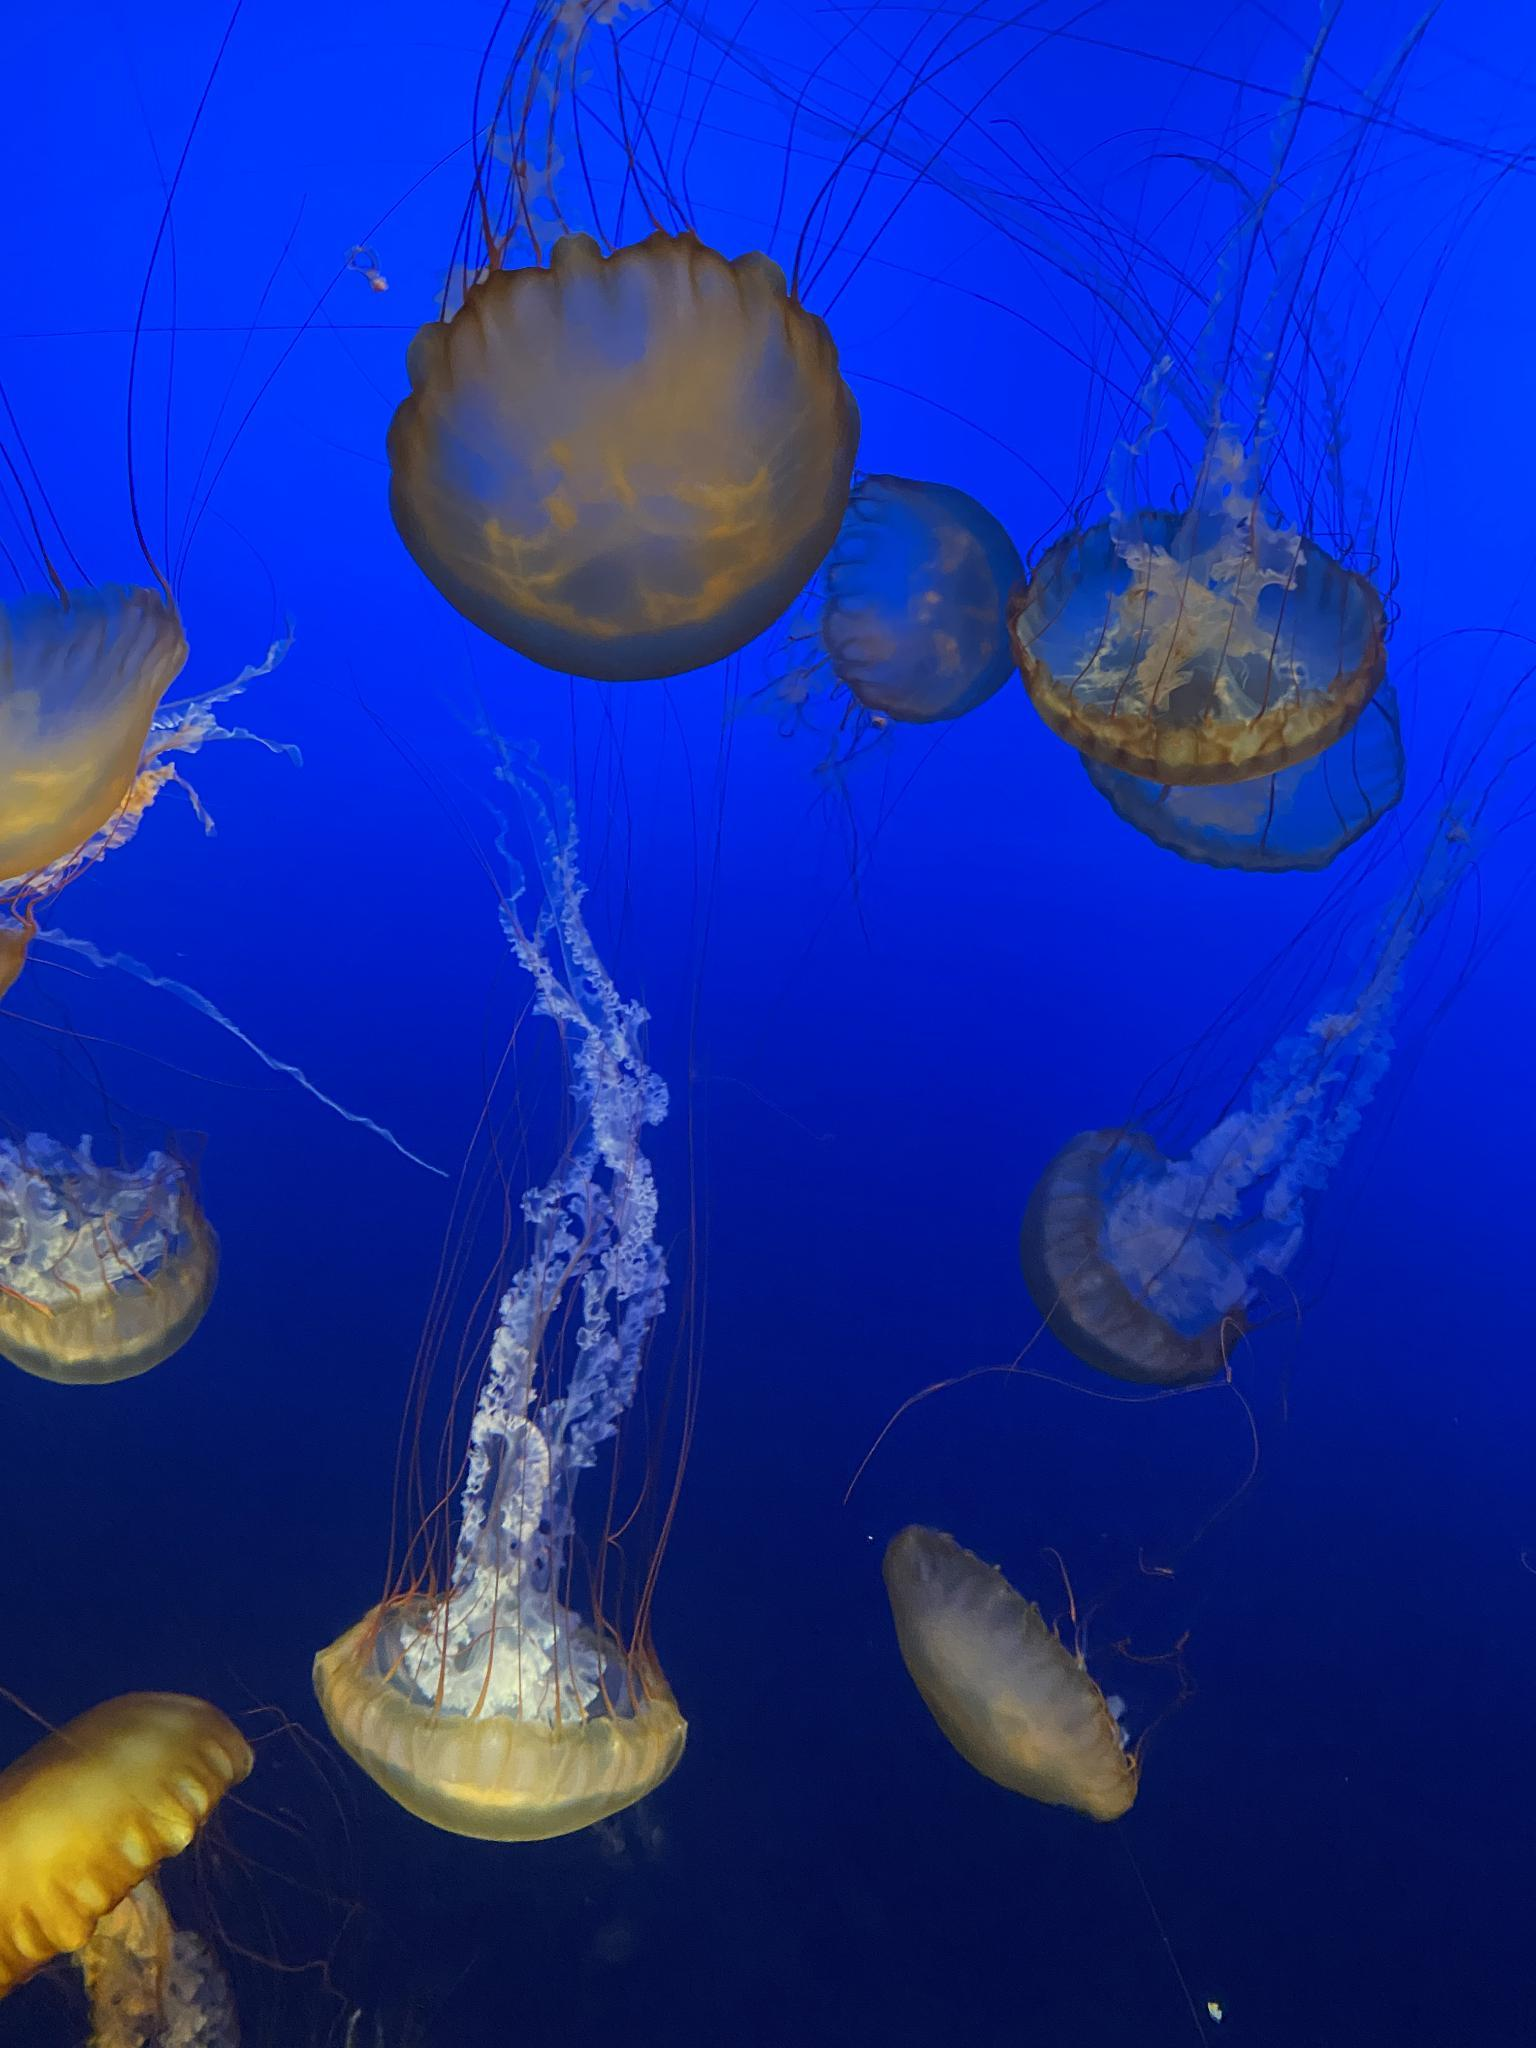jellyfish: (386, 231, 857, 682), (310, 1585, 691, 1846), (1025, 510, 1384, 777), (876, 1524, 1141, 1822), (2, 1692, 253, 2001), (1020, 1126, 1249, 1405), (1079, 679, 1402, 872), (0, 1127, 223, 1387), (0, 589, 192, 889), (818, 474, 1026, 719)
